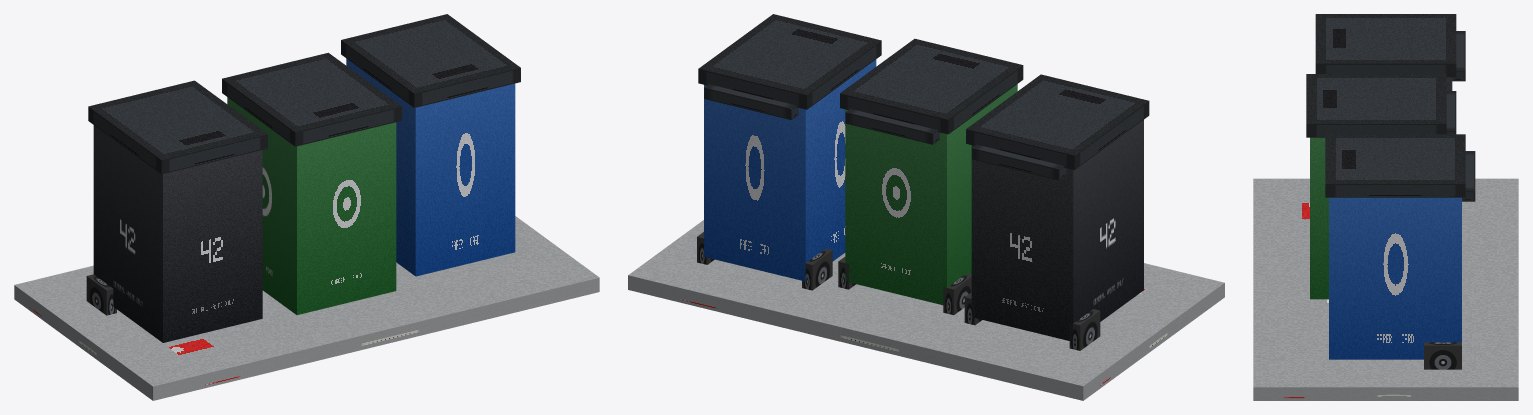
Rendered from prop_wheelie_bins.glb.
The picture shows the model from 3 angles, left to right: view 1: azimuth 30°, elevation 25°; view 2: azimuth 150°, elevation 25°; view 3: azimuth 270°, elevation 25°; orthographic projection. The views are drawn at different scales.
Visible parts, largest first — view 1: Prop_Wheelie_Bins; view 2: Prop_Wheelie_Bins; view 3: Prop_Wheelie_Bins.
Boxes of the visible parts, <box> form: Prop_Wheelie_Bins: <box>14,14,599,400</box>; Prop_Wheelie_Bins: <box>628,14,1224,400</box>; Prop_Wheelie_Bins: <box>1253,14,1518,400</box>.
Bounding box in the file's own units: 2.6 × 1.15 × 1.4.
Materials: 1 (1 with a texture image).
